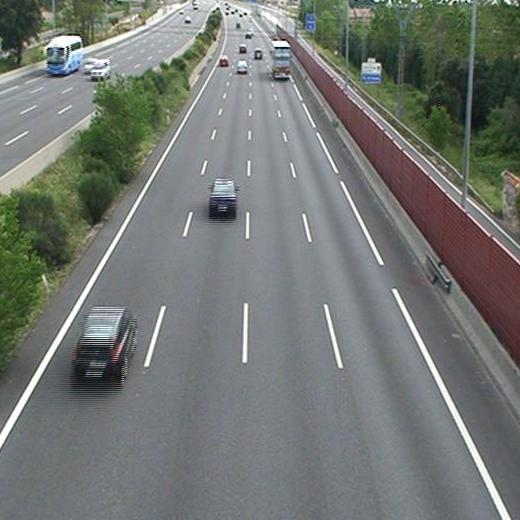car: (74, 308, 134, 373), (210, 179, 237, 211), (237, 60, 247, 72), (253, 49, 263, 58), (220, 56, 229, 66), (238, 44, 245, 53)
truck: (273, 42, 290, 77)
